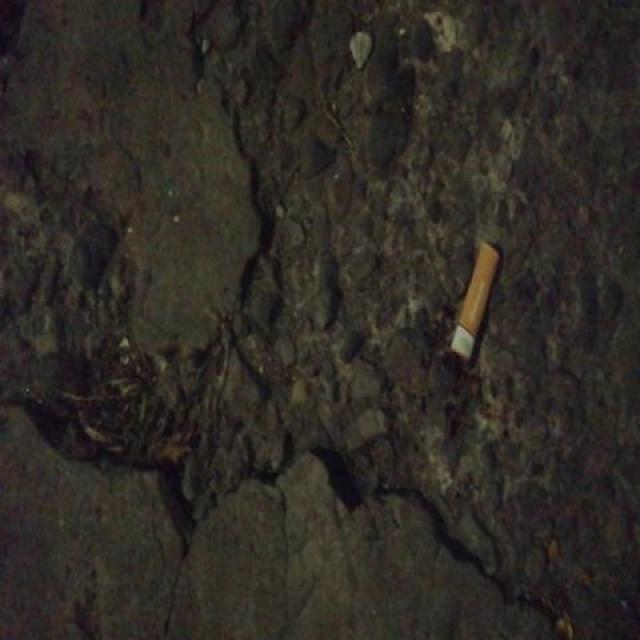non-organic waste: (450, 237, 503, 367)
